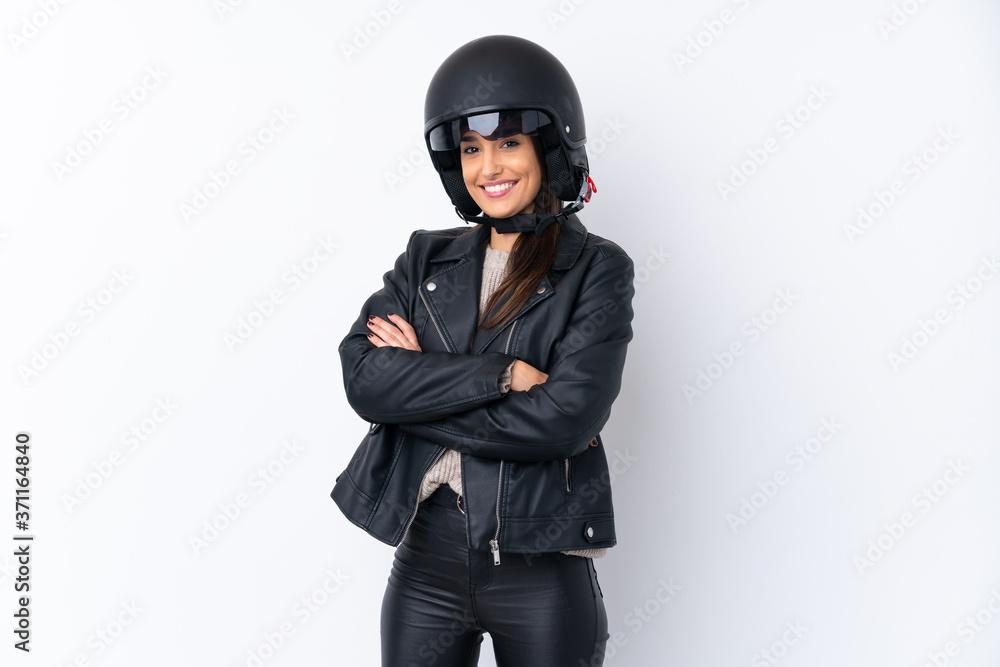helmet: (423, 33, 598, 238)
